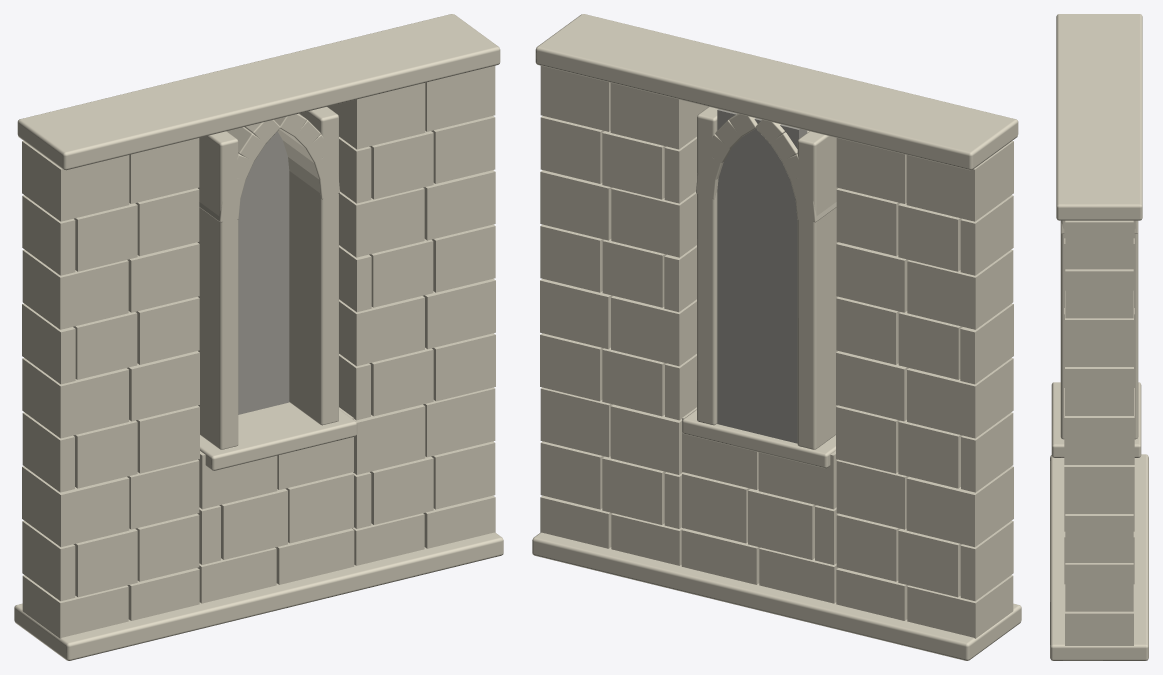
The model's file is medieval-monastery-and-scriptorium-monastery-lancet-wi-c0c13950.glb.
3 views of the same model, side by side, from view 1: azimuth 30°, elevation 25°; view 2: azimuth 150°, elevation 25°; view 3: azimuth 270°, elevation 25° (orthographic). The views are drawn at different scales.
Visible parts, largest first — view 1: monastery-lancet-window-bay; view 2: monastery-lancet-window-bay; view 3: monastery-lancet-window-bay.
Part boxes in pixels (x1,y1,x2,y2): monastery-lancet-window-bay: (14,14,503,660); monastery-lancet-window-bay: (532,14,1021,660); monastery-lancet-window-bay: (1050,14,1148,660).
Size of the model in its own units: 3 by 3.32 by 0.6501.
